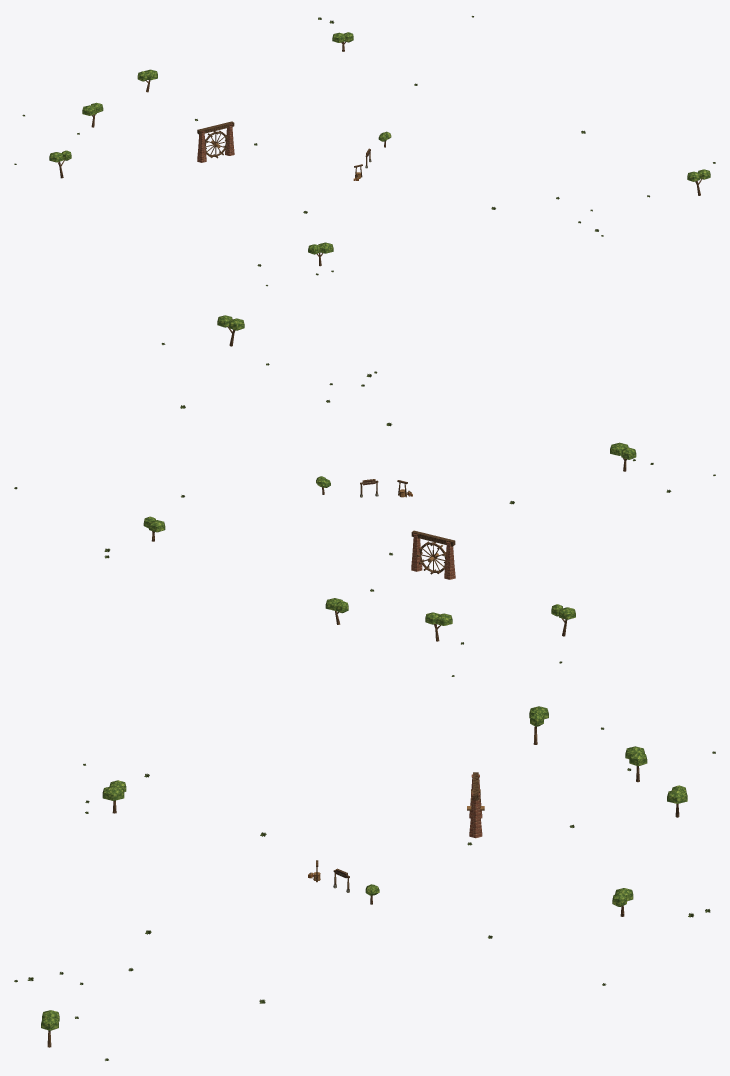
File: FieldCell_1_4.fbx
The picture shows the model from 3 angles, top to bottom: view 1: azimuth 30°, elevation 25°; view 2: azimuth 150°, elevation 25°; view 3: azimuth 270°, elevation 25°; orthographic projection. The views are drawn at different scales.
Parts seen in each view (by area): view 1: FieldCell_1_4; view 2: FieldCell_1_4; view 3: FieldCell_1_4.
Part boxes in pixels (x1,y1,x2,y2): FieldCell_1_4: [49, 32, 710, 266]; FieldCell_1_4: [143, 315, 636, 641]; FieldCell_1_4: [41, 706, 687, 1047].
Bounding box in the file's own units: 16422 × 1494 × 14141.
